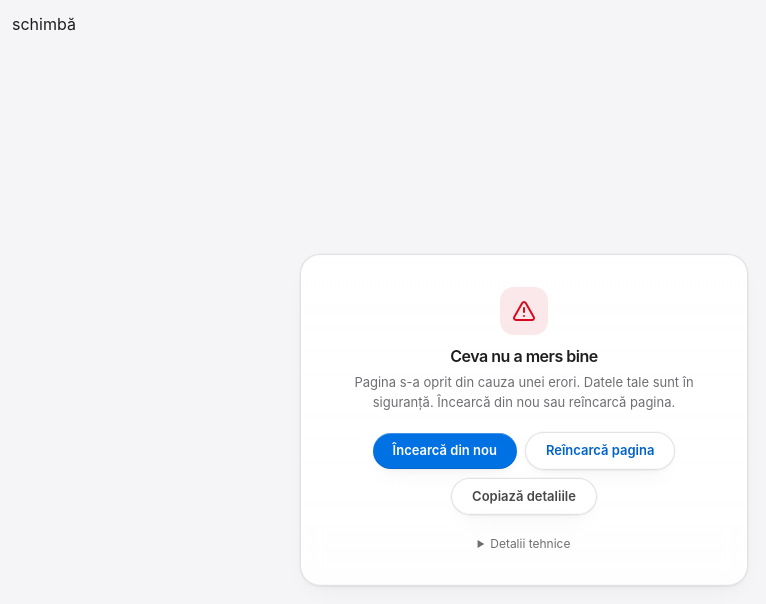
AppErrorBoundary › copiază detaliile în clipboard
Click the button "Copiază detaliile" at [524, 497], box x1=451 y1=478 x2=597 y2=515
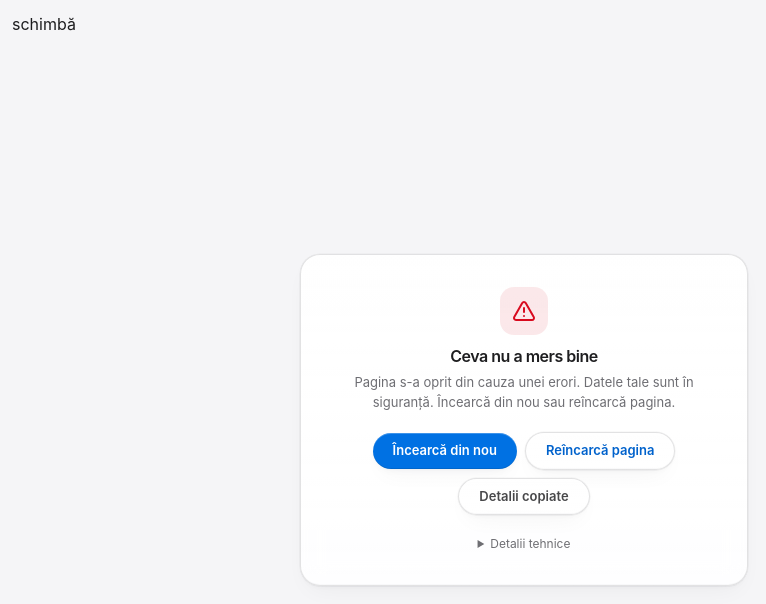
Expected: the button "Detalii copiate" is shown, x1=458 y1=478 x2=590 y2=515
